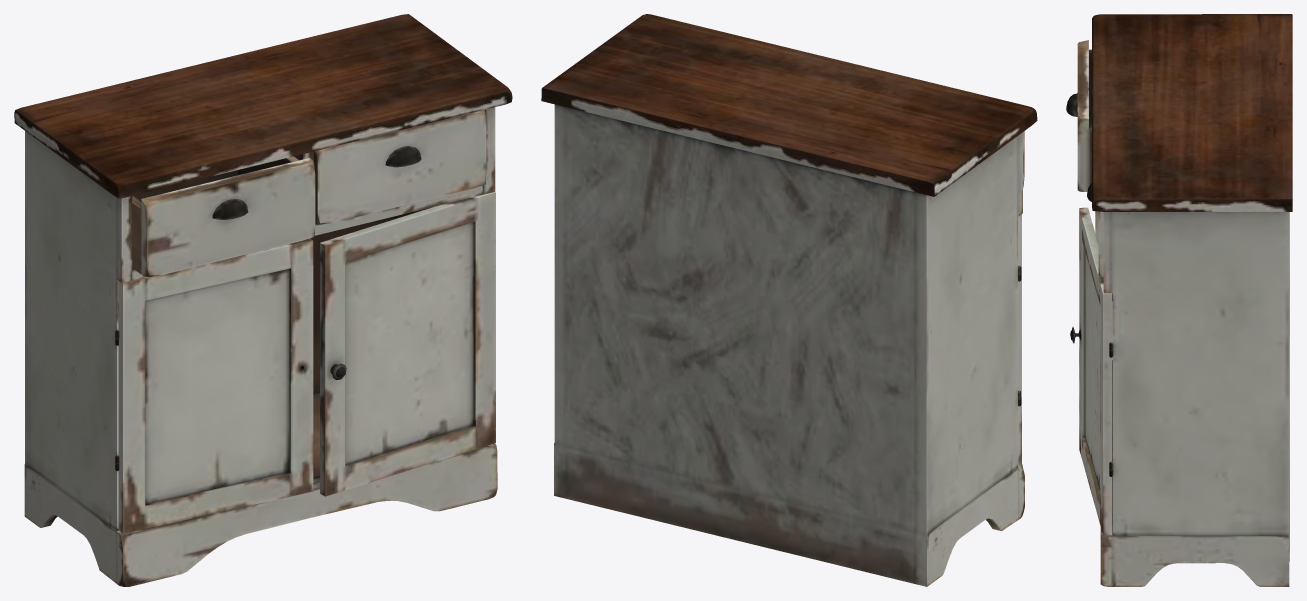
The model's file is painted_wooden_cabinet.glb.
3 views of the same model, side by side, from view 1: azimuth 30°, elevation 25°; view 2: azimuth 150°, elevation 25°; view 3: azimuth 270°, elevation 25° (orthographic). The views are drawn at different scales.
Parts seen in each view (by area): view 1: painted_wooden_cabinet; view 2: painted_wooden_cabinet; view 3: painted_wooden_cabinet.
Part boxes in pixels (box(x1,y1,x2,y2)): painted_wooden_cabinet: box(14, 14, 512, 586); painted_wooden_cabinet: box(541, 14, 1037, 586); painted_wooden_cabinet: box(1066, 14, 1292, 586).
Bounding box in the file's own units: 1.19 × 1.18 × 0.6161.
Materials: 1 (1 with a texture image).
